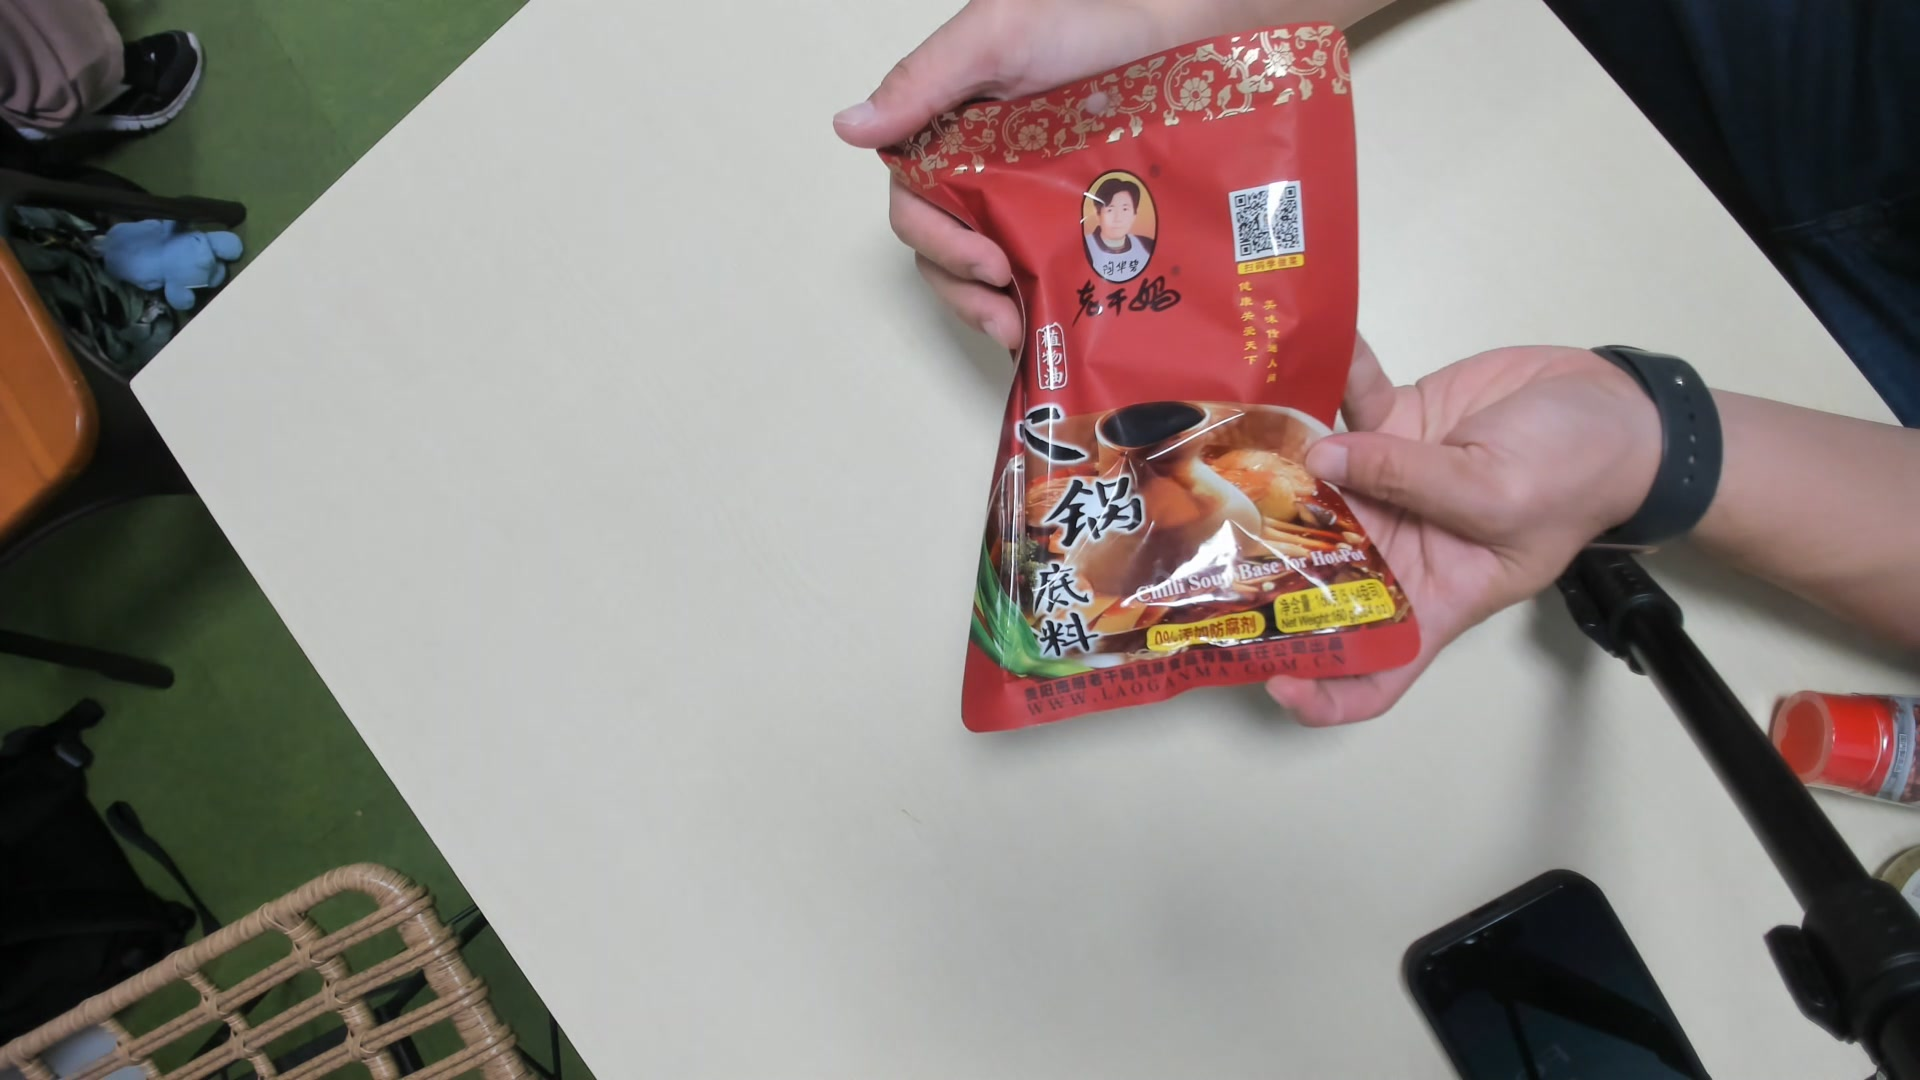OtherSauceDressing_100-199g_NonHalal_NonHealthy: (881, 25, 1422, 749)
